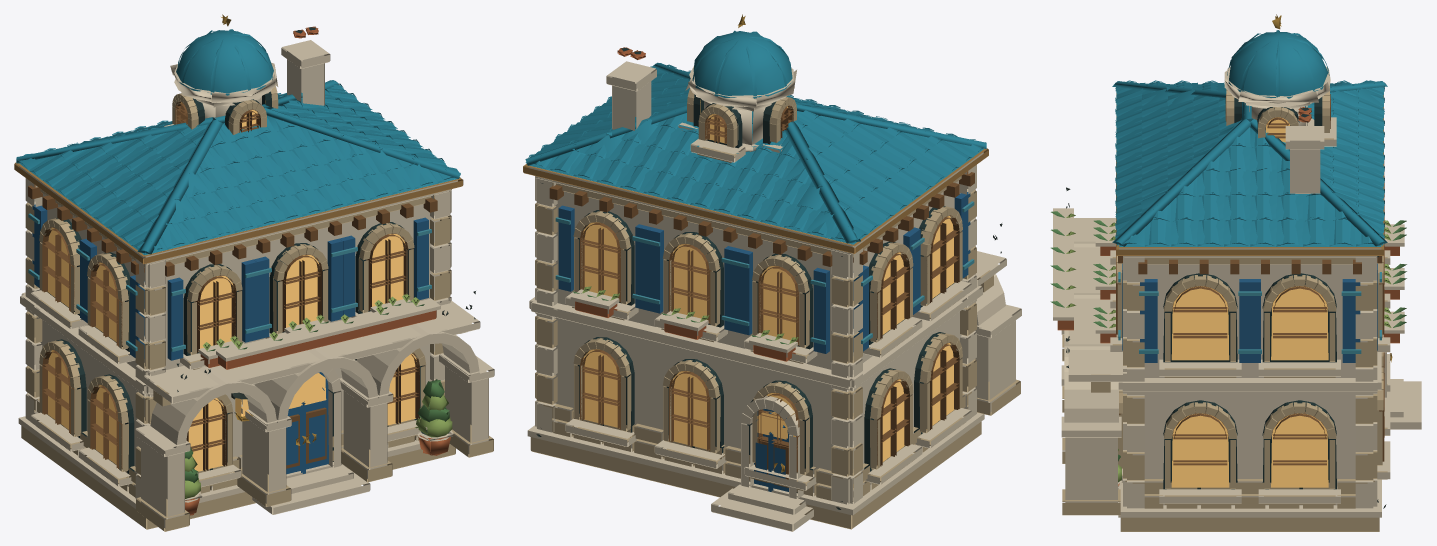
3 views of the same model, side by side, from view 1: azimuth 30°, elevation 25°; view 2: azimuth 150°, elevation 25°; view 3: azimuth 270°, elevation 25° (orthographic). The views are drawn at different scales.
Parts seen in each view (by area): view 1: harbor_hotel_2_geometry, harbor_hotel_2_geometry ceramic; view 2: harbor_hotel_2_geometry, harbor_hotel_2_geometry ceramic; view 3: harbor_hotel_2_geometry, harbor_hotel_2_geometry ceramic.
Part boxes in pixels (x1=…): harbor_hotel_2_geometry: x1=14, y1=14, x2=494, y2=531; harbor_hotel_2_geometry ceramic: x1=16, y1=29, x2=460, y2=351; harbor_hotel_2_geometry: x1=523, y1=14, x2=1021, y2=531; harbor_hotel_2_geometry ceramic: x1=525, y1=30, x2=986, y2=344; harbor_hotel_2_geometry: x1=1050, y1=14, x2=1421, y2=531; harbor_hotel_2_geometry ceramic: x1=1112, y1=30, x2=1387, y2=353.
Bounding box in the file's own units: 0.9502 × 1.16 × 0.8914.
